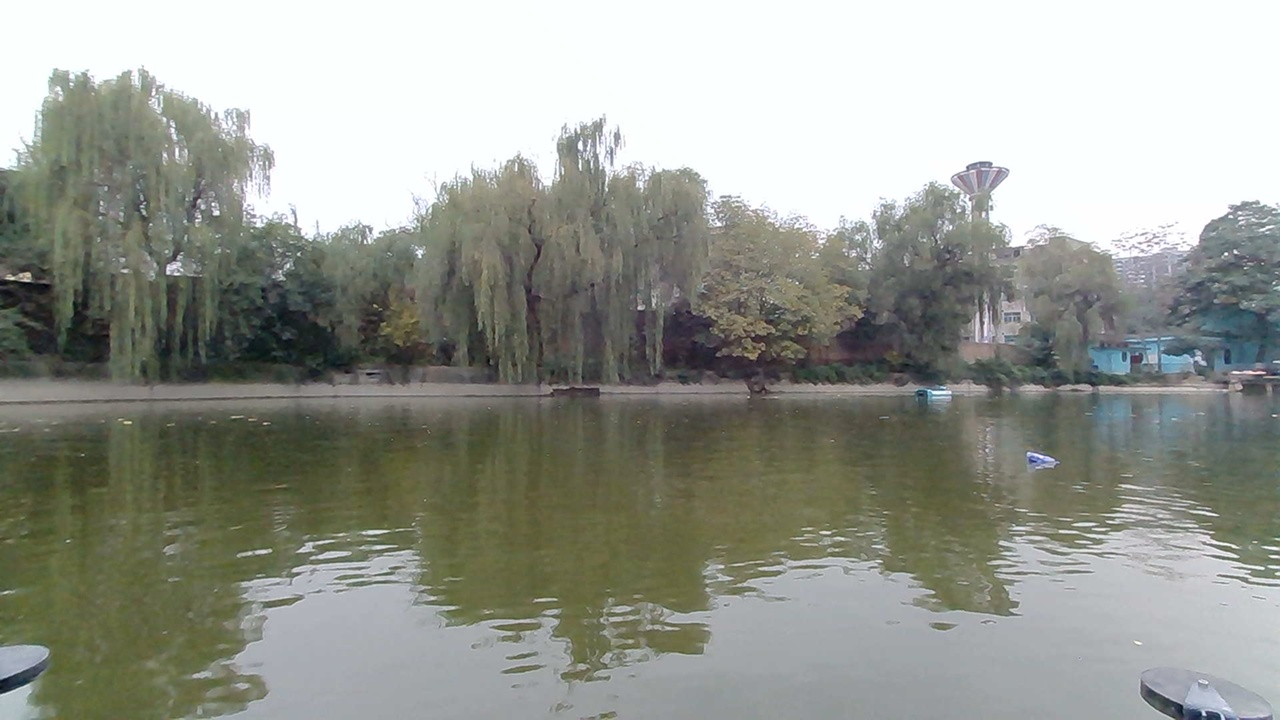bottle: (1014, 445, 1059, 479)
